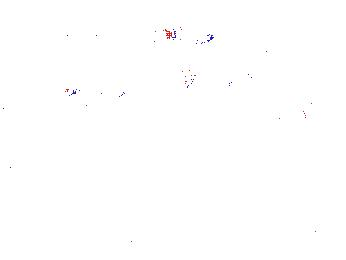X-ray fish: (18, 66, 60, 91)
glassfish: (222, 98, 327, 163)
redtail glassfish: (173, 64, 254, 93), (217, 1, 291, 25), (61, 79, 128, 104), (161, 23, 216, 48)
